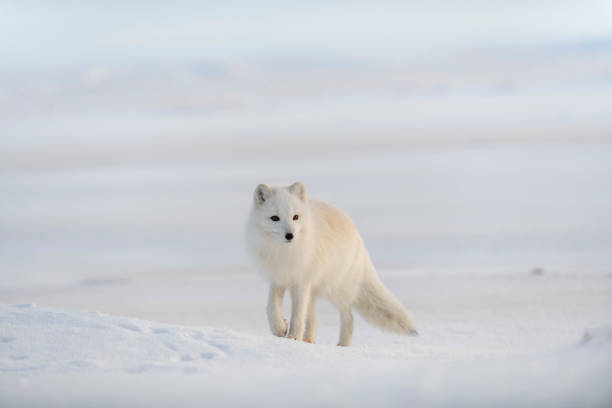arcticfox: (257, 198, 315, 258)
